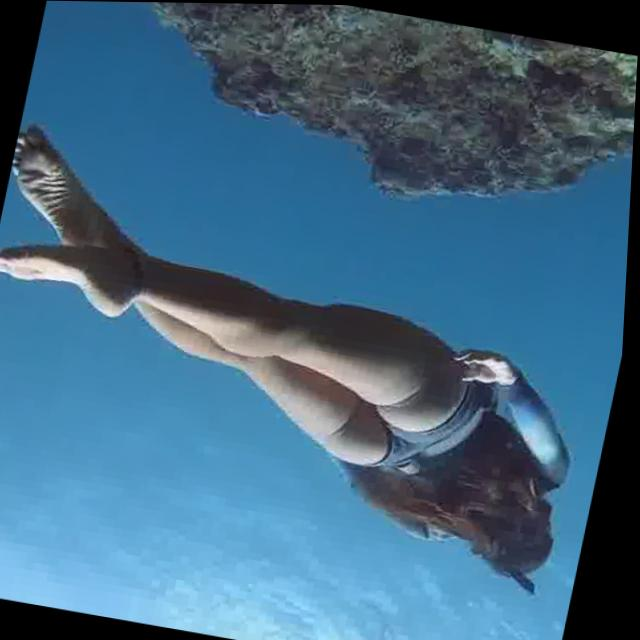human: (0, 122, 635, 614)
